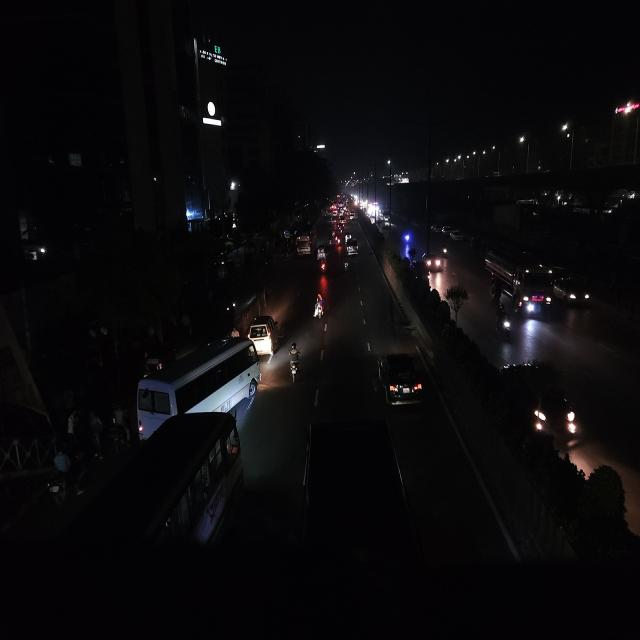bus: (0, 409, 246, 636), (134, 330, 262, 440), (294, 224, 316, 258)
car: (499, 356, 581, 454), (374, 346, 425, 414), (551, 267, 592, 312), (248, 312, 280, 357), (427, 251, 443, 274), (345, 237, 359, 256), (448, 229, 464, 244), (348, 208, 357, 222)
motorcycle: (286, 339, 304, 386), (496, 303, 513, 344), (313, 290, 325, 322), (317, 245, 328, 275), (342, 256, 350, 274), (442, 242, 450, 258)
truck: (484, 246, 552, 314)
